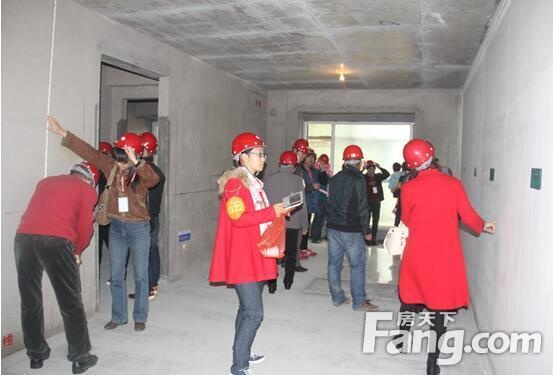red: (230, 128, 267, 174), (402, 138, 437, 175), (110, 131, 140, 168), (67, 158, 100, 189), (134, 129, 160, 159), (339, 142, 363, 171), (277, 149, 298, 172), (290, 138, 309, 161), (363, 158, 377, 173), (318, 152, 329, 166)
